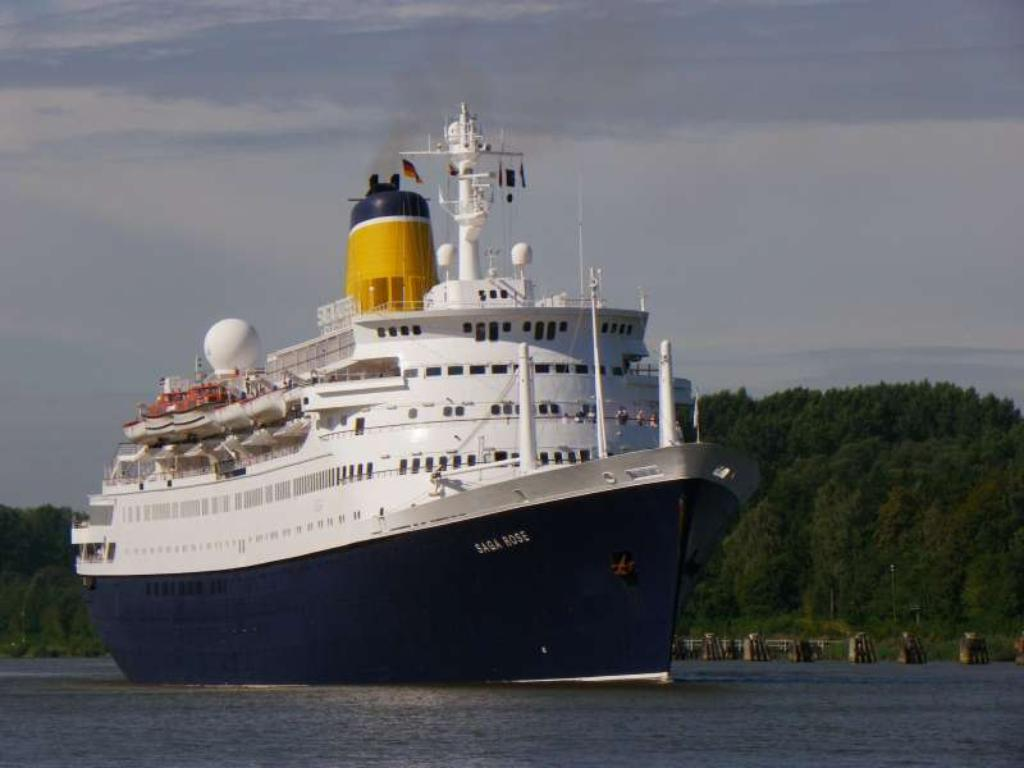PassengerShip: (66, 82, 760, 692)
